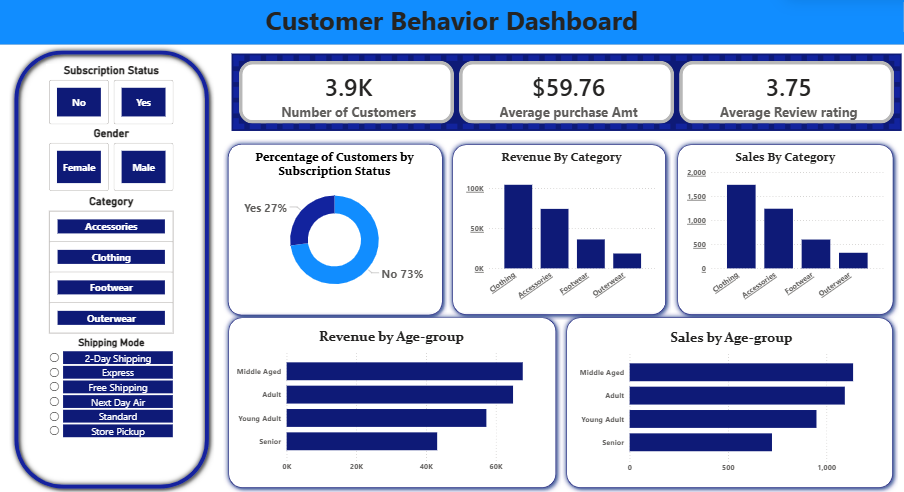

The page's visual inventory and layout, read from the dashboard file:
{"tool":"powerbi","page":{"name":"Page 1","canvas":[1500,820],"ordinal":0},"visuals":[{"type":"cardVisual","fields":{"Data":["public customer.Number of Customers","public customer.Average purchase Amt","public customer.Average Review rating"]},"box":[370.1,84.6,1129.9,155.5],"z":0},{"type":"shape","box":[0,0,1500,84.6],"z":1000},{"type":"textbox","box":[0,9.8,1500,63],"z":2000},{"type":"shape","box":[370.1,240.2,368.1,297.2],"z":3000},{"type":"donutChart","title":"Percentage of Customers by Subscription Status","fields":{"Category":["public customer.subscription_status"],"Y":["CountNonNull(public customer.customer_id)"]},"box":[387.8,255.9,332.7,250],"z":4000},{"type":"shape","box":[738.2,240.2,368.1,297.2],"z":5000},{"type":"shape","box":[1106.3,240.2,372,297.2],"z":6000},{"type":"clusteredColumnChart","title":"Revenue By Category","fields":{"Y":["Sum(public customer.purchase_amount)"],"Category":["public customer.category"]},"box":[763.8,255.9,322.8,265.7],"z":7000},{"type":"clusteredColumnChart","title":"Sales By Category","fields":{"Y":["CountNonNull(public customer.customer_id)"],"Category":["public customer.category"]},"box":[1126,255.9,332.7,265.7],"z":8000},{"type":"shape","box":[19.7,84.6,336.6,736.2],"z":9000},{"type":"advancedSlicerVisual","title":"Subscription Status","fields":{"Values":["public customer.subscription_status"]},"box":[80.7,116.1,214.6,104.3],"z":10000},{"type":"advancedSlicerVisual","title":"Gender","fields":{"Values":["public customer.gender"]},"box":[80.7,220.5,214.6,110.2],"z":11000},{"type":"advancedSlicerVisual","title":"Category","fields":{"Values":["public customer.category"]},"box":[80.7,330.7,214.6,232.3],"z":12000},{"type":"listSlicer","title":"Shipping Mode","fields":{"Values":["public customer.shipping_type"]},"box":[80.7,563,214.6,224.4],"z":13000},{"type":"shape","box":[370.1,523.6,555.1,297.2],"z":13001},{"type":"clusteredBarChart","title":"Revenue by Age-group","fields":{"Y":["Sum(public customer.purchase_amount)"],"Category":["public customer.age_group_fixed"]},"box":[387.8,549.2,519.7,246.1],"z":13002},{"type":"shape","box":[925.2,523.6,553.1,297.2],"z":13003},{"type":"clusteredBarChart","title":"Sales by Age-group","fields":{"Y":["CountNonNull(public customer.customer_id)"],"Category":["public customer.age_group_fixed"]},"box":[948.8,551.2,509.8,246.1],"z":13004}]}

Visuals, with their boxes in screenshot pixels (x1, y1, x2, y2), scaled from the page's 1500x820 canvas onto the 904x492 screenshot:
cardVisual - public customer.Number of Customers x public customer.Average purchase Amt: box(223, 51, 903, 144)
shape: box(0, 0, 903, 51)
textbox: box(0, 6, 903, 44)
shape: box(223, 144, 445, 322)
"Percentage of Customers by Subscription Status" donutChart: box(234, 154, 434, 304)
shape: box(445, 144, 667, 322)
shape: box(667, 144, 891, 322)
"Revenue By Category" clusteredColumnChart: box(460, 154, 655, 313)
"Sales By Category" clusteredColumnChart: box(679, 154, 879, 313)
shape: box(12, 51, 215, 491)
"Subscription Status" advancedSlicerVisual: box(49, 70, 178, 132)
"Gender" advancedSlicerVisual: box(49, 132, 178, 198)
"Category" advancedSlicerVisual: box(49, 198, 178, 338)
"Shipping Mode" listSlicer: box(49, 338, 178, 472)
shape: box(223, 314, 558, 491)
"Revenue by Age-group" clusteredBarChart: box(234, 330, 547, 477)
shape: box(558, 314, 891, 491)
"Sales by Age-group" clusteredBarChart: box(572, 331, 879, 478)
